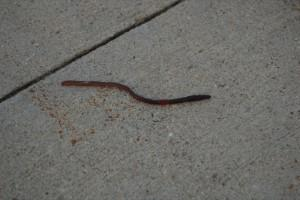earthworms: (52, 75, 222, 113)
